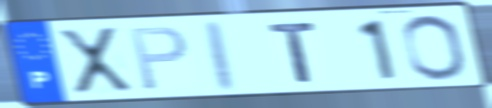1: (356, 17, 399, 82)
I: (205, 18, 240, 94)
O: (399, 12, 470, 82)
P: (127, 24, 190, 94)
T: (266, 20, 320, 85)
X: (54, 25, 136, 97)
